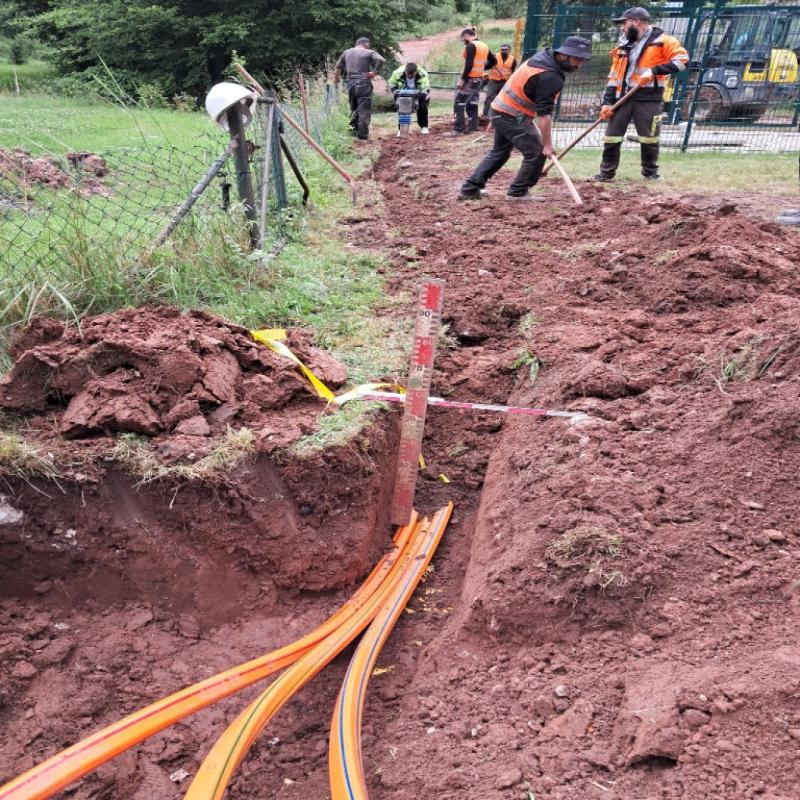Orang-Speednetrohrchen: (0, 513, 452, 799)
